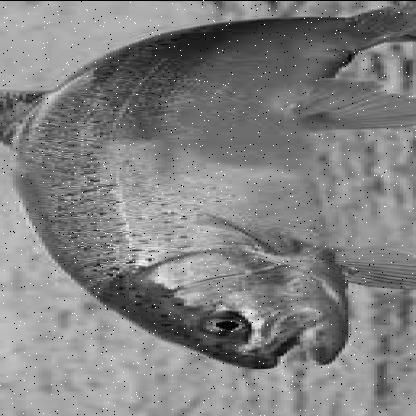fish: (0, 5, 413, 369)
